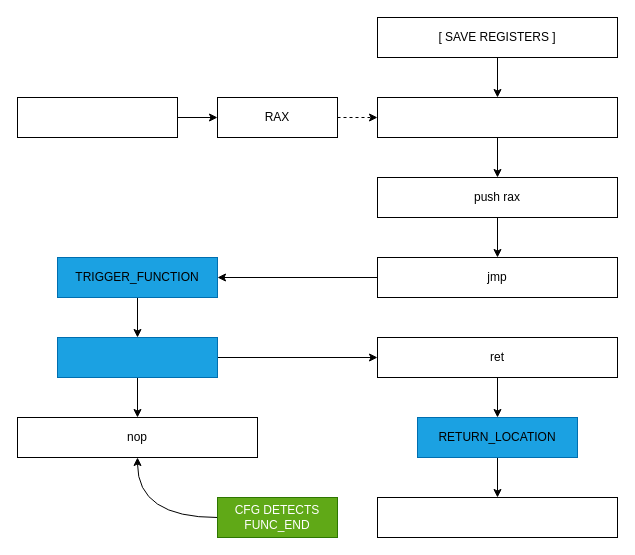
Some shapes in this 635 by 555 pixel diagram are drawn without their labels. The shapes that lost their labels are listed below. From the top down, each one's centre as x and y in pixels, then its label:
pixel 97 117: *RETURN_LOCATION
pixel 497 117: lea rax, RETURN_LOCATION
pixel 137 357: EXTERNAL FUNCTION
pixel 497 517: [ RECOVER REGISTERS ]
